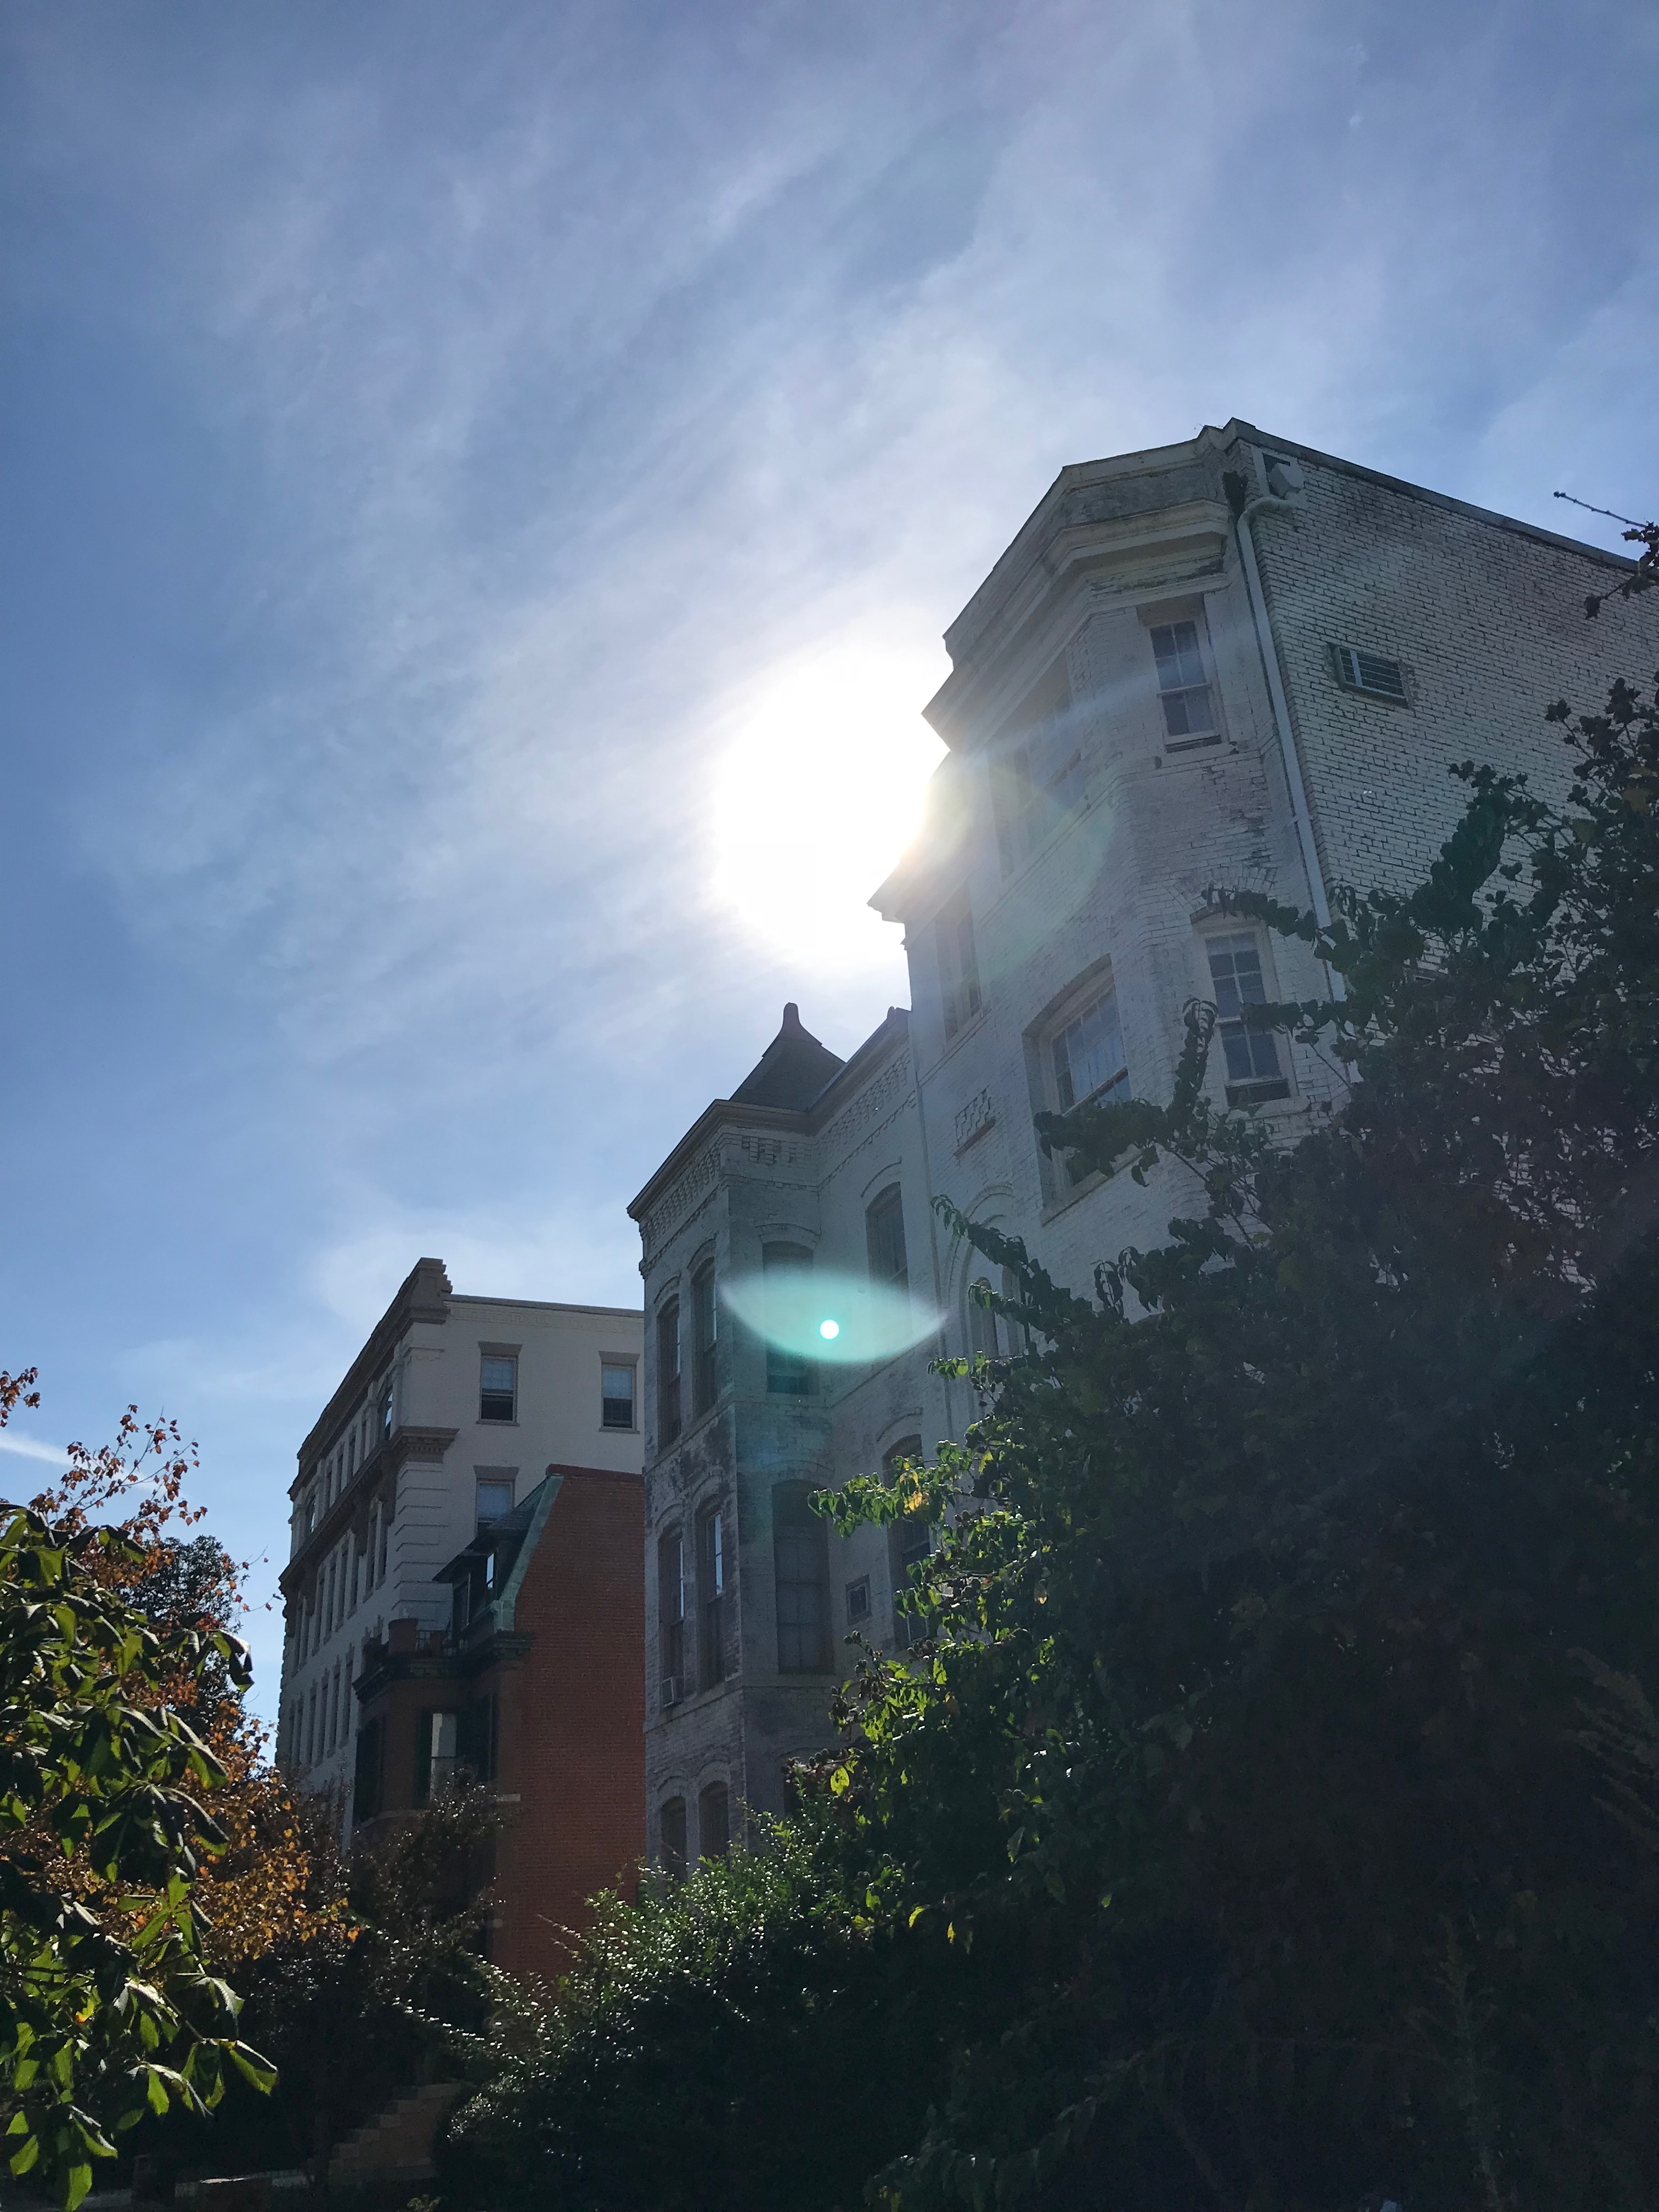flare: (817, 1318, 842, 1341)
